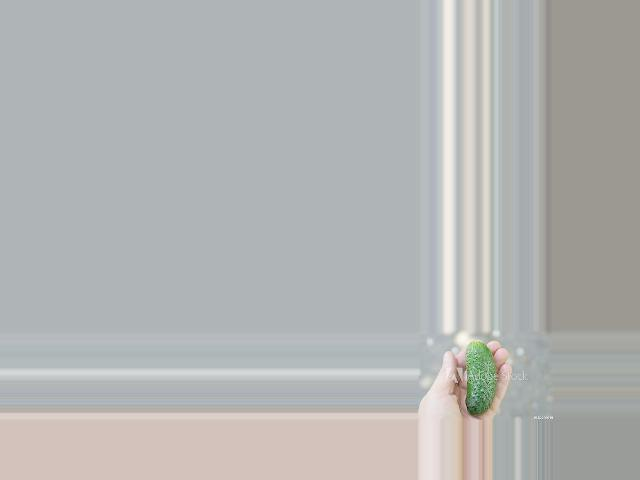cucumber: (466, 342, 498, 415)
